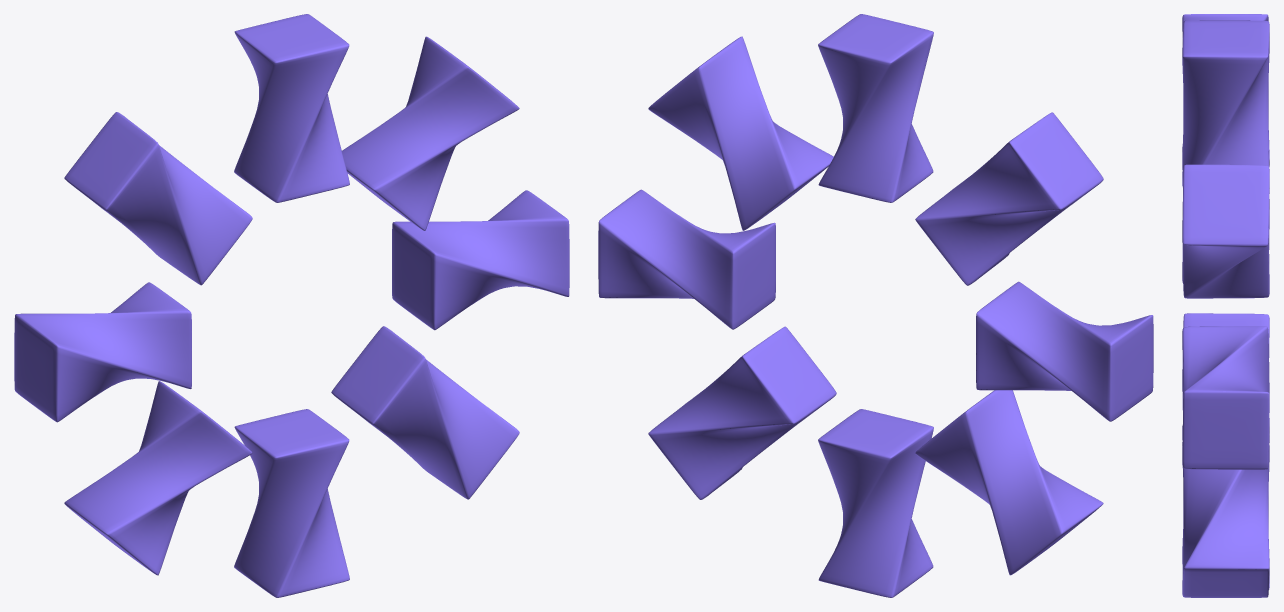
Rendered from RefWeb.gltf.
3 renders of one model, left to right at view 1: azimuth 30°, elevation 25°; view 2: azimuth 150°, elevation 25°; view 3: azimuth 270°, elevation 25°, orthographic.
Parts seen in each view (by area): view 1: Plane.001; view 2: Plane.001; view 3: Plane.001.
Boxes of the visible parts, x1,y1,x2,y2 form: Plane.001: [14, 14, 569, 597]; Plane.001: [598, 14, 1153, 597]; Plane.001: [1182, 14, 1269, 597].
Size of the model in its own units: 4.53 by 4.53 by 0.6699.
